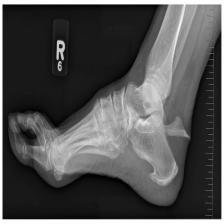avulsion-fracture: (3, 1, 224, 210)
